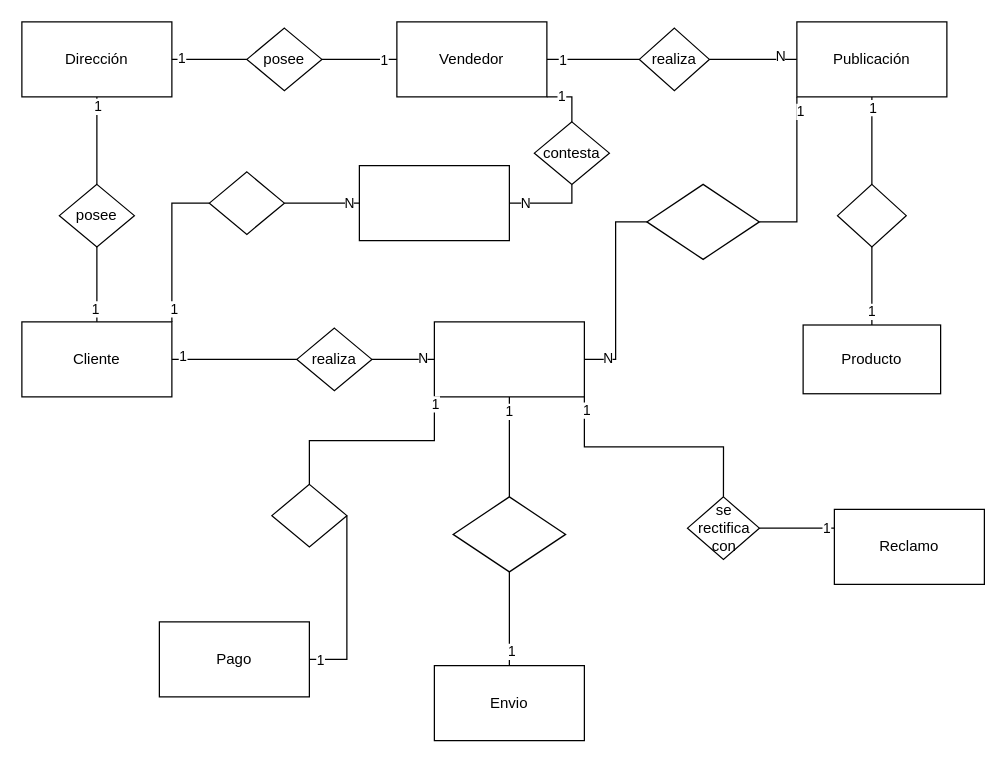
Image size: 1006x763. Some labels were removed from this diagram. The shapes that lost their labels are listed below. From the top down, each one's centre as x and y in pixels, then its label:
At point 246,202: "pregunta".
At point 433,202: "Interaccion".
At point 702,221: "se vende a traves de".
At point 871,215: "publicita".
At point 508,359: "Pedido".
At point 309,515: "se abona".
At point 509,534: "se manda por".
